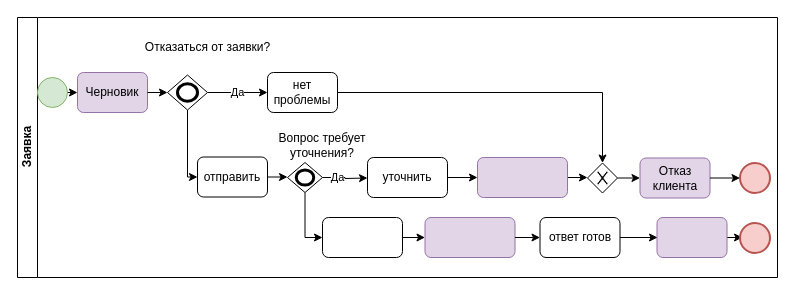
This 795x295 diagram has some shape labels left out. Each missing label, with the box of its shape:
В работе: (424, 216, 515, 258)
Закрыто: (656, 216, 727, 258)
принять в работу: (322, 216, 402, 258)
Уточнение информации: (476, 156, 568, 198)
